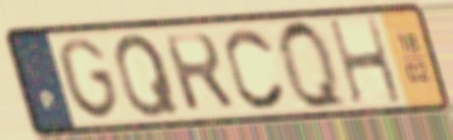C: (222, 25, 289, 113)
G: (56, 35, 123, 122)
H: (325, 14, 406, 109)
Q: (274, 15, 354, 114), (112, 30, 182, 120)
R: (160, 30, 240, 115)
